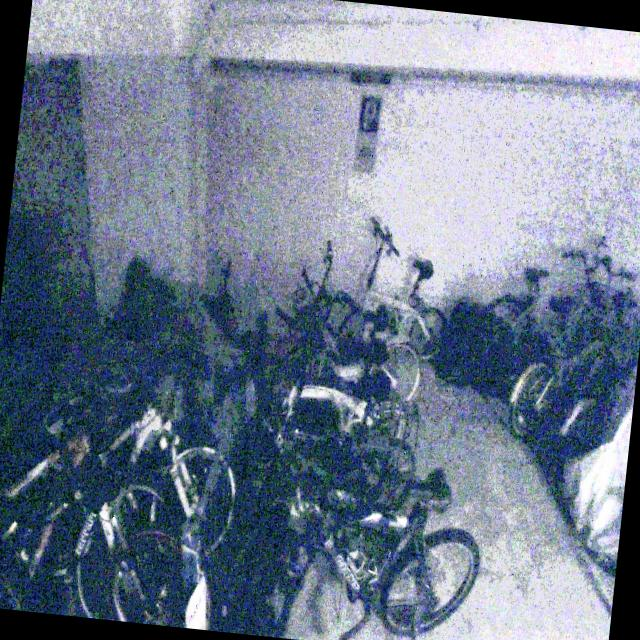bike: (16, 353, 248, 592), (244, 446, 489, 640), (0, 380, 188, 625), (505, 249, 640, 445), (280, 237, 434, 400), (328, 216, 456, 364), (482, 237, 612, 381)
